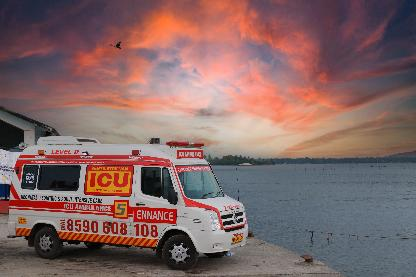priority: (8, 133, 248, 267)
